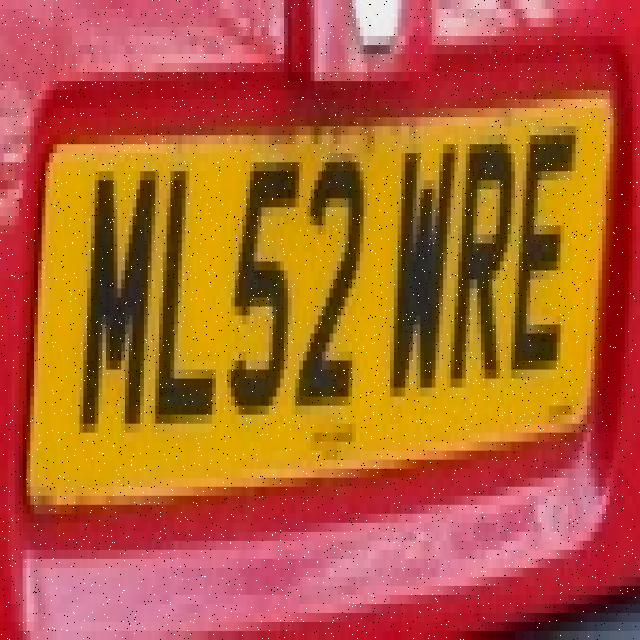licenseplate: (32, 64, 616, 472)
